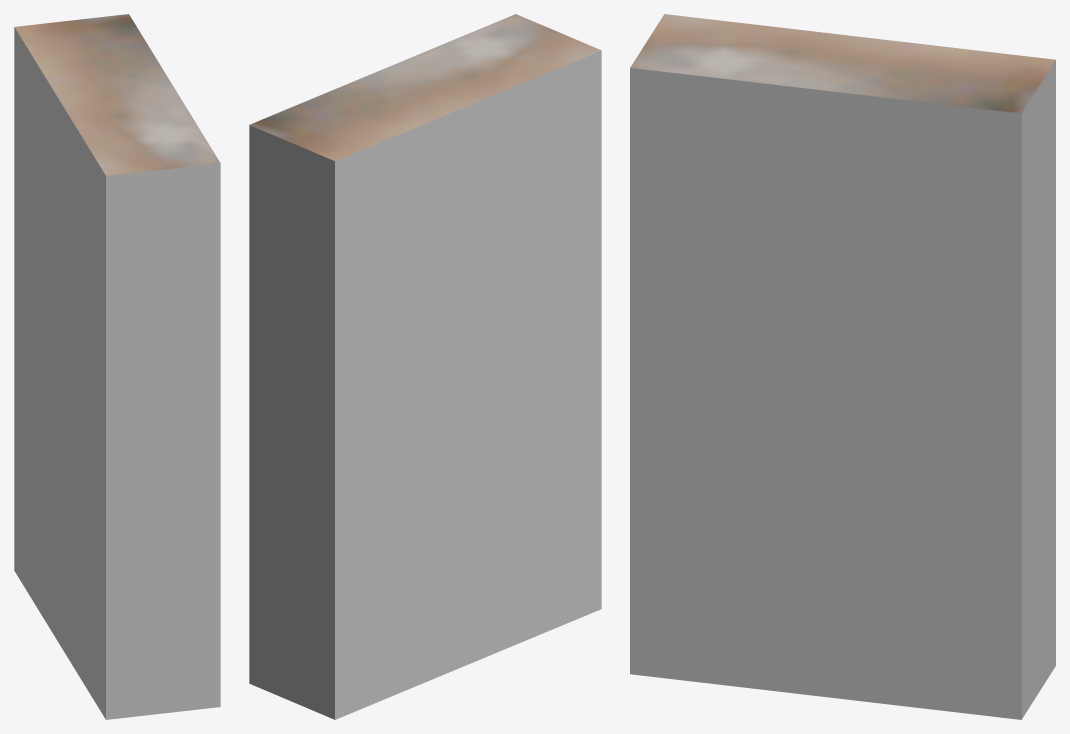
File: DEBW_001000gmStz.gltf
3 renders of one model, left to right at view 1: azimuth 30°, elevation 25°; view 2: azimuth 150°, elevation 25°; view 3: azimuth 270°, elevation 25°, orthographic. The views are drawn at different scales.
Visible parts, largest first — view 1: Z_UP; view 2: Z_UP; view 3: Z_UP.
Boxes of the visible parts, <box> form: Z_UP: <box>14,14,220,719</box>; Z_UP: <box>249,14,601,719</box>; Z_UP: <box>630,14,1055,719</box>.
Bounding box in the file's own units: 2.68 × 7.61 × 4.84.
2 materials, 1 textured.
